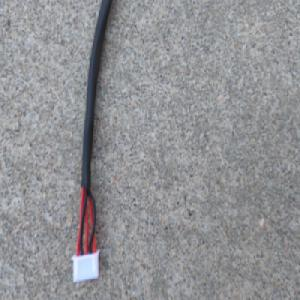Wire: (69, 0, 114, 287)
